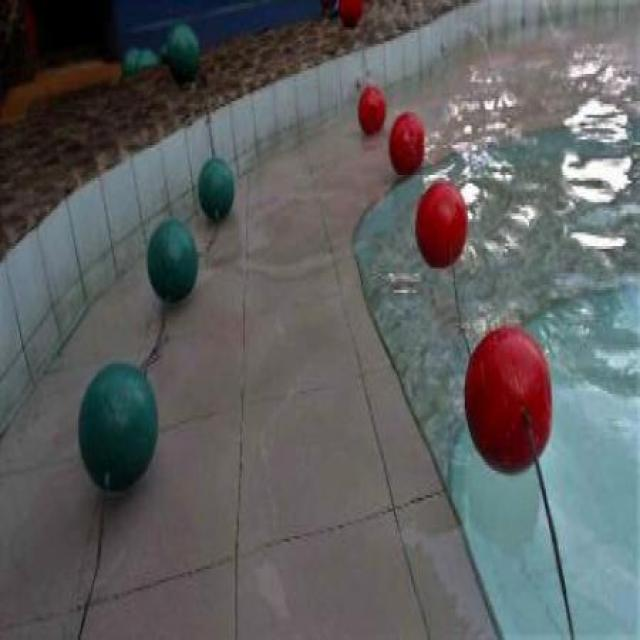buoy: (463, 321, 552, 478), (76, 362, 157, 490), (414, 177, 468, 267), (144, 220, 197, 305), (388, 115, 428, 175), (197, 157, 234, 220), (166, 21, 200, 83), (358, 84, 388, 134)
